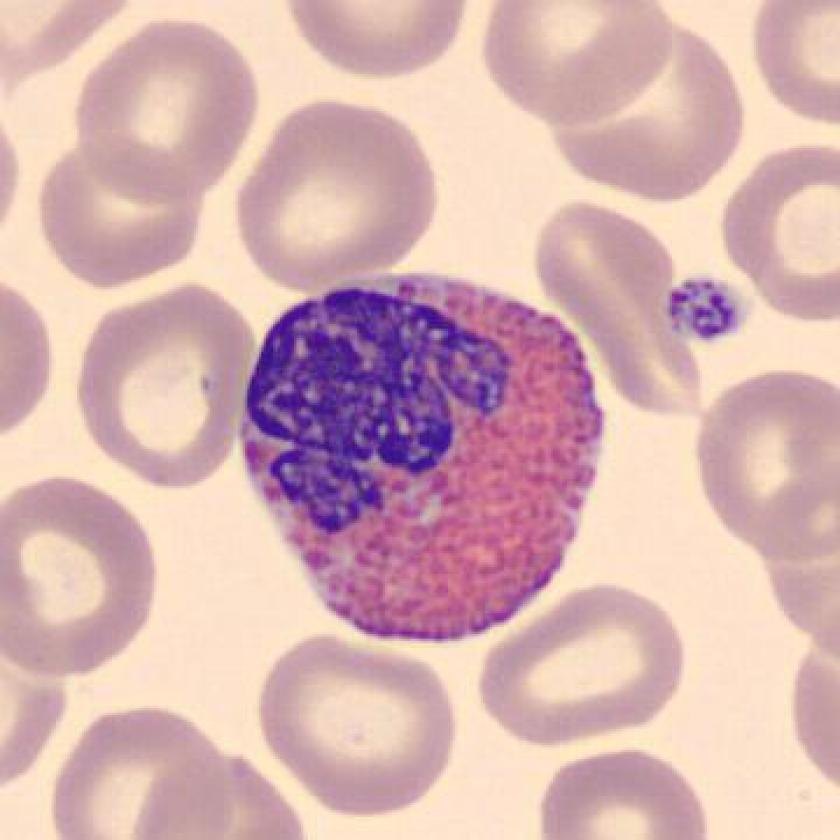eosinophil: (234, 262, 617, 663)
